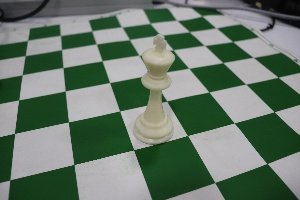white_king: (128, 19, 175, 149)
